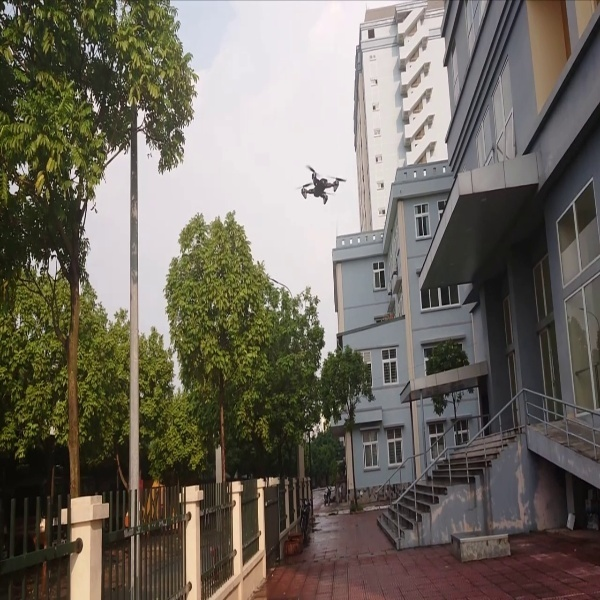drone: (288, 156, 348, 215)
